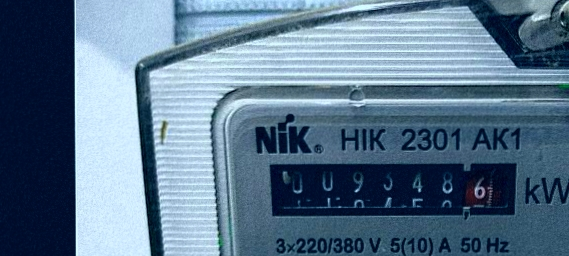0: (289, 170, 305, 196), (320, 166, 334, 192)
3: (381, 167, 395, 192)
4: (408, 165, 426, 195)
6: (471, 172, 488, 202)
8: (440, 168, 455, 196)
9: (351, 169, 365, 196)
screen: (252, 148, 531, 228)
